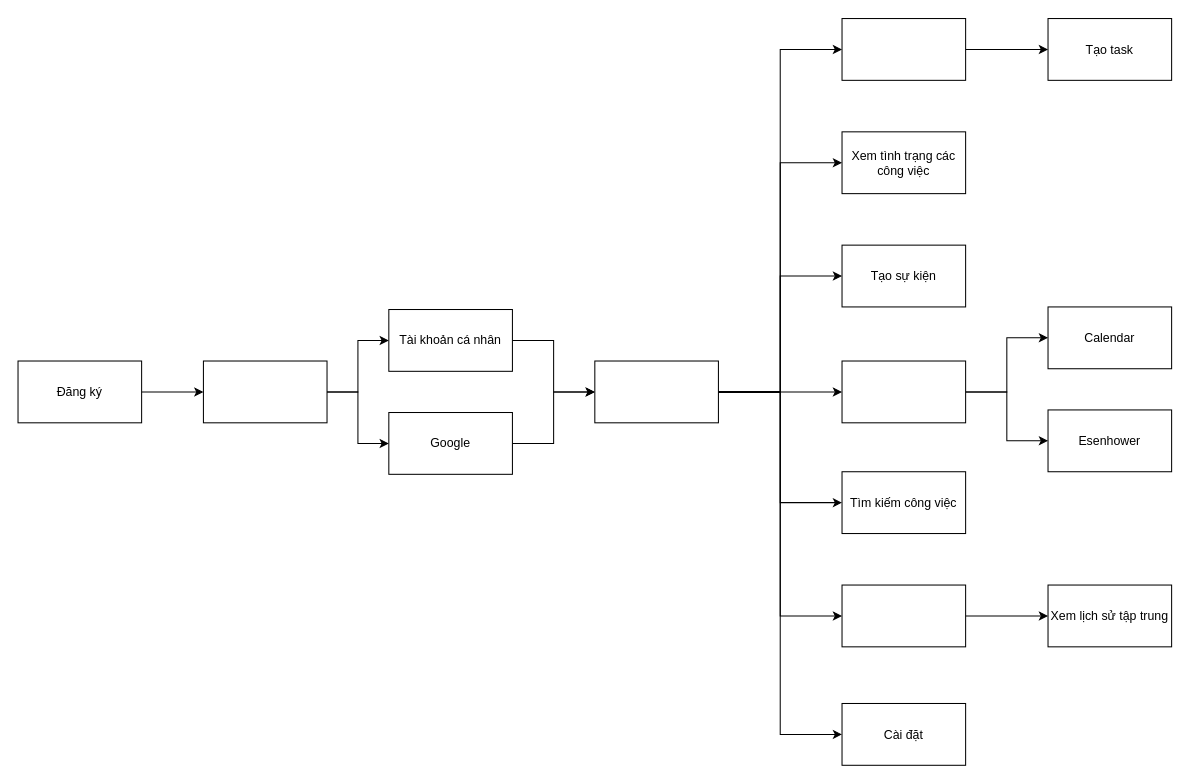
Some shapes in this 1190 by 783 pixel diagram are drawn without their labels. Each missing label, with the centre of its shape:
Sử dụng pomodoro: the point at 903,615
Tạo danh mục: the point at 903,49
Xem công việc theo các view: the point at 903,391
Xem trang chủ: the point at 656,391
Đăng nhập: the point at 264,391
